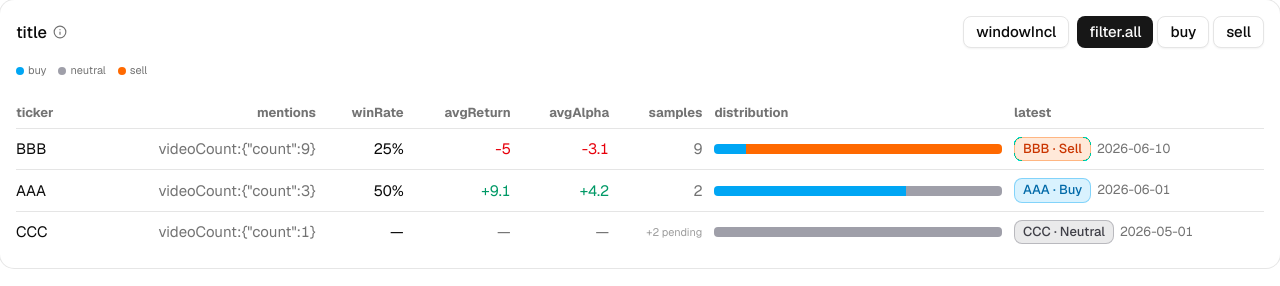
Test case: ChannelTickerTable › re-slices perf columns when the buy/sell toggle changes
Expected: the text "25%" is shown, [316,128,404,170]
// switch to buy: BBB buy-slice win_rate 100%
Click the button "buy": (1183, 32) [1158,16,1209,48]
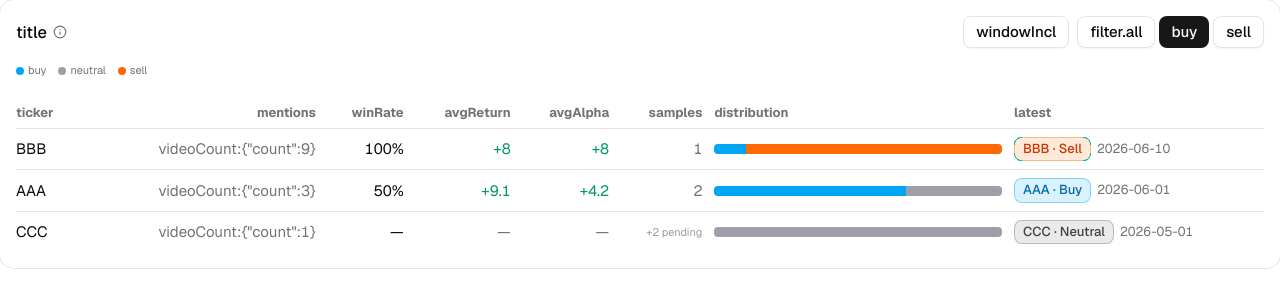
Result: the text "100%" is shown at [316,128,404,170]
Click the button "sell": (1239, 32) [1213,16,1264,48]
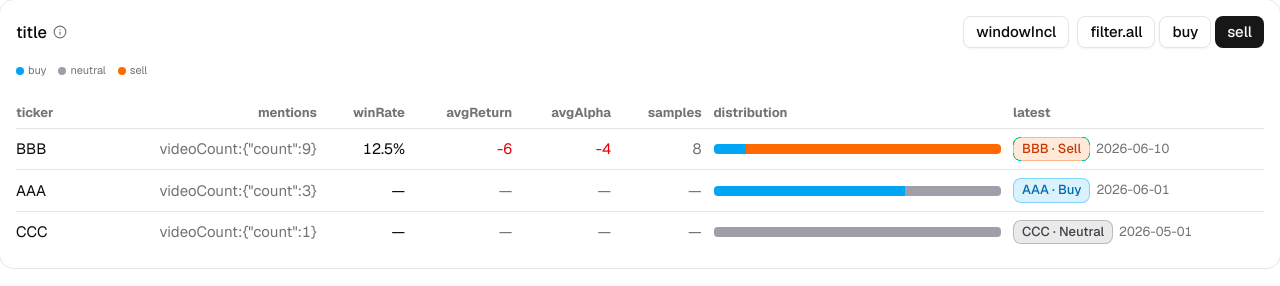
Result: the 1st text "—" is shown at [317,170,405,211]
